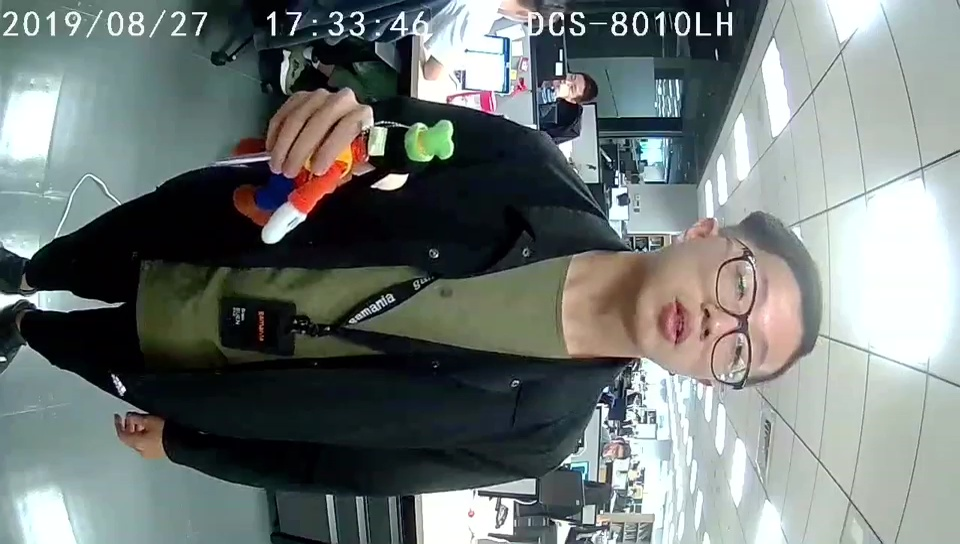goofy: (234, 120, 456, 245)
